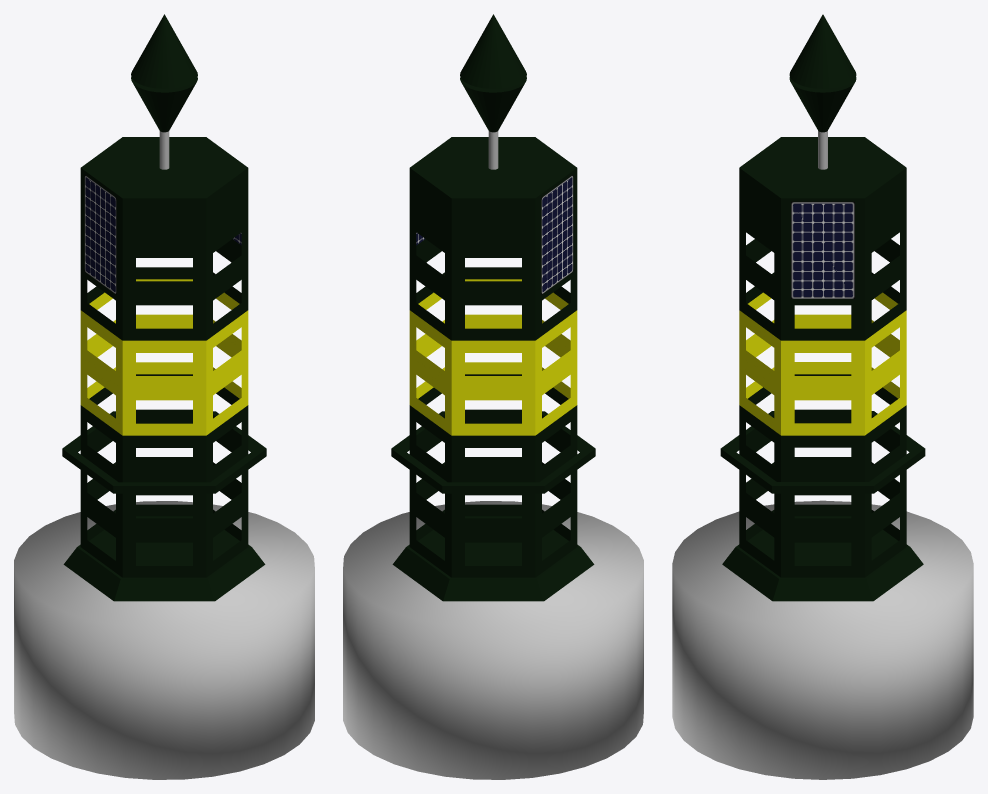
File: Boy-East.gltf
3 renders of one model, left to right at view 1: azimuth 30°, elevation 25°; view 2: azimuth 150°, elevation 25°; view 3: azimuth 270°, elevation 25°, orthographic.
Parts seen in each view (by area): view 1: Cylinder.006, Cylinder.007, Cylinder.005, Cylinder.004, Plane.002, Cone 1.003, Cone 2; view 2: Cylinder.006, Cylinder.007, Cylinder.005, Cylinder.004, Plane.002, Cone 1.003, Cone 2; view 3: Cylinder.006, Cylinder.007, Cylinder.005, Plane.003, Cylinder.004, Cone 1.003, Cone 2.
Boxes of the visible parts, x1,y1,x2,y2 form: Cylinder.006: (14,501,314,779); Cylinder.007: (80,137,248,577); Cylinder.005: (63,516,265,601); Cylinder.004: (62,411,266,493); Plane.002: (84,174,116,294); Cone 1.003: (131,14,197,88); Cone 2: (131,77,197,132); Cylinder.006: (343,501,643,779); Cylinder.007: (409,137,577,577); Cylinder.005: (392,516,594,601); Cylinder.004: (391,411,595,493); Plane.002: (541,174,573,294); Cone 1.003: (460,14,526,88); Cone 2: (460,77,526,132); Cylinder.006: (672,500,973,779); Cylinder.007: (739,137,906,577); Cylinder.005: (722,516,923,601); Plane.003: (791,201,854,298); Cylinder.004: (720,411,925,493); Cone 1.003: (789,14,856,88); Cone 2: (789,77,856,132).
Bounding box in the file's own units: 1.8 × 4.62 × 1.8.
4 materials, 1 textured.
